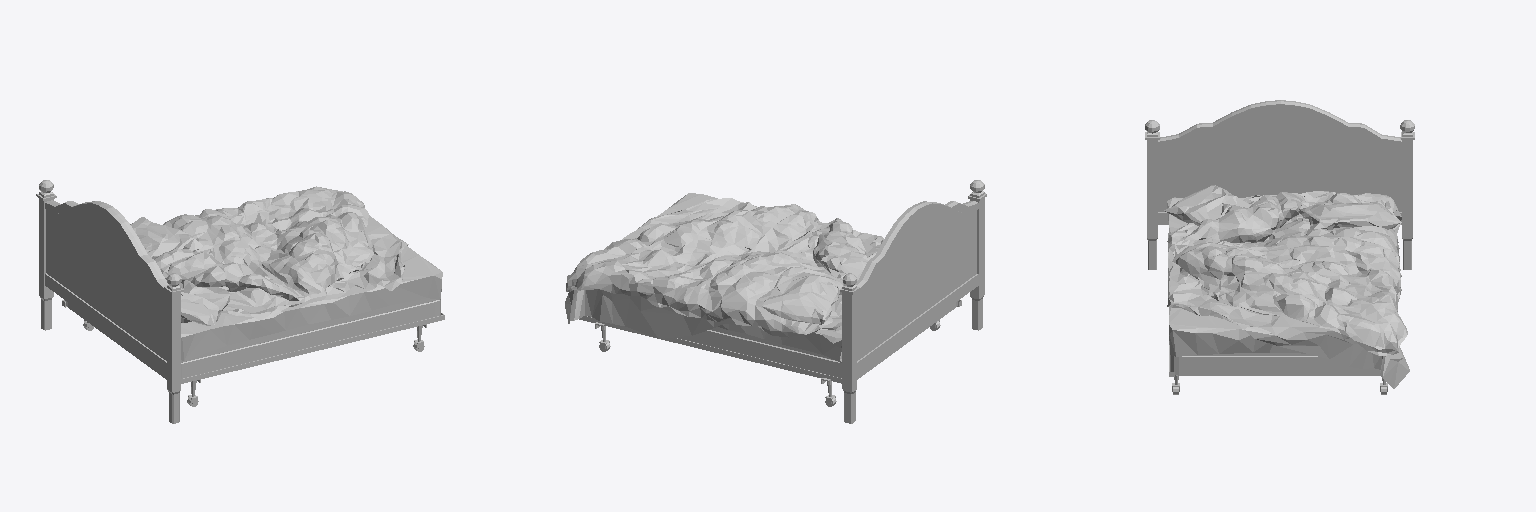
The model's file is bed.obj.
The picture shows the model from 3 angles: view 1: azimuth 30°, elevation 25°; view 2: azimuth 150°, elevation 25°; view 3: azimuth 270°, elevation 25°; orthographic projection.
Parts seen in each view (by area): view 1: uploads_files_110004_bed_obj; view 2: uploads_files_110004_bed_obj; view 3: uploads_files_110004_bed_obj.
Part boxes in pixels (left/top/right/bottom): uploads_files_110004_bed_obj: left=36, top=180, right=444, bottom=423; uploads_files_110004_bed_obj: left=565, top=180, right=986, bottom=423; uploads_files_110004_bed_obj: left=1145, top=100, right=1414, bottom=394.
Bounding box in the file's own units: 5.73 × 3.01 × 4.4.